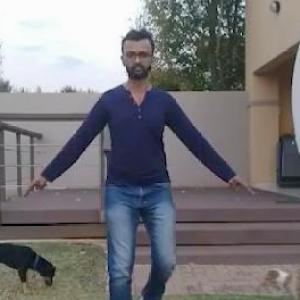land: (50, 45, 226, 299)
